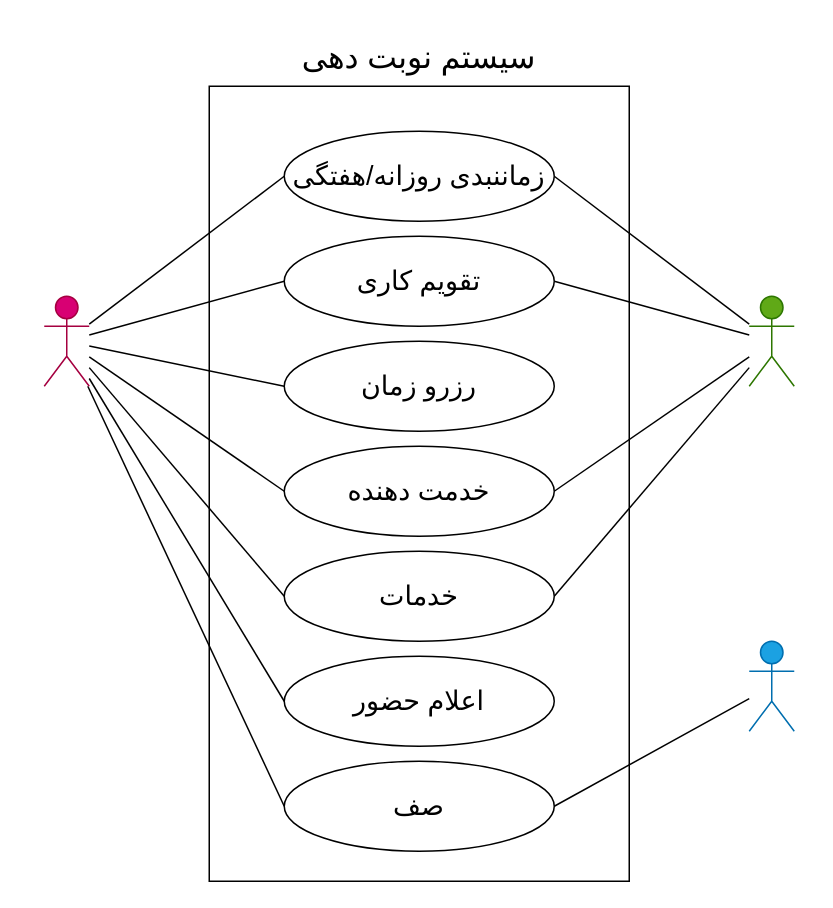
Image size: 833x908. Some labels were removed from this diagram. The shapes that lost their labels are listed below. From the top down, each one's centre as x and y in pixels, then its label:
point 66,340: مشتری
point 771,340: مدیر
point 771,685: کارمند
